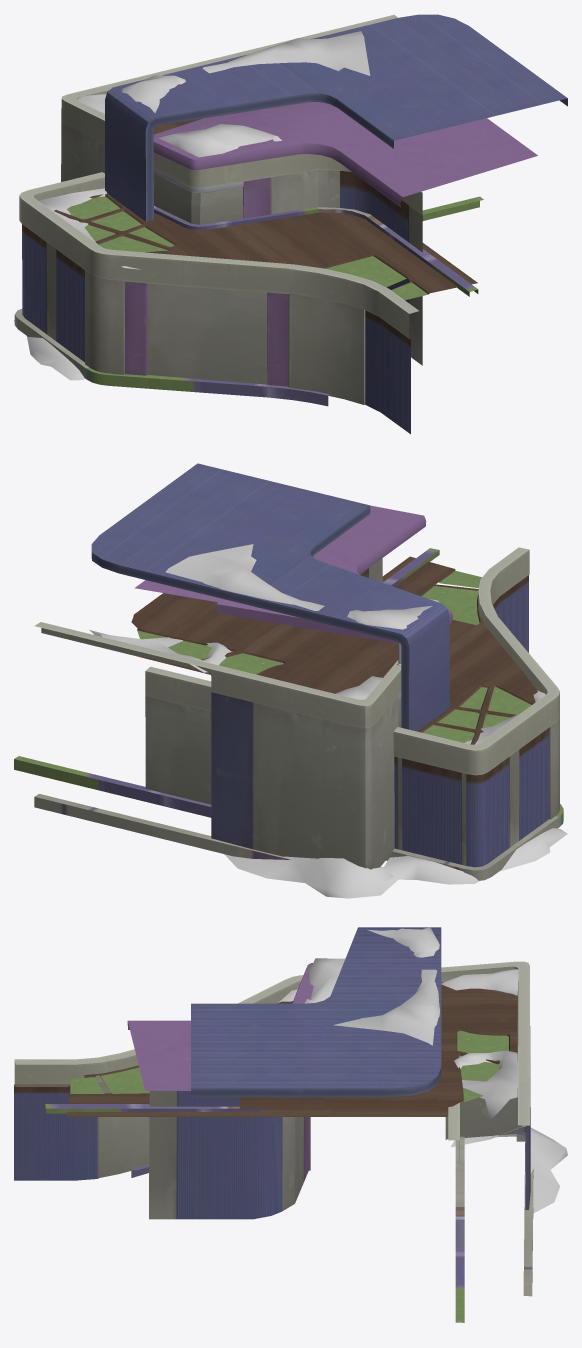
File: pref_sm_city_shop07_snow_lv3.fbx
3 renders of one model, top to bottom at view 1: azimuth 30°, elevation 25°; view 2: azimuth 150°, elevation 25°; view 3: azimuth 270°, elevation 25°, orthographic.
Parts seen in each view (by area): view 1: sm_city_shop07_snow_lv3, sm_city_shop07b_snow_lv3; view 2: sm_city_shop07_snow_lv3, sm_city_shop07b_snow_lv3; view 3: sm_city_shop07_snow_lv3, sm_city_shop07b_snow_lv3.
Part boxes in pixels (left/top/right/bottom): sm_city_shop07_snow_lv3: left=14, top=14, right=567, bottom=434; sm_city_shop07b_snow_lv3: left=14, top=31, right=370, bottom=380; sm_city_shop07_snow_lv3: left=14, top=463, right=563, bottom=880; sm_city_shop07b_snow_lv3: left=89, top=544, right=567, bottom=898; sm_city_shop07_snow_lv3: left=14, top=927, right=533, bottom=1322; sm_city_shop07b_snow_lv3: left=278, top=927, right=567, bottom=1213.
Bounding box in the file's own units: 21.35 × 9.58 × 20.86.
